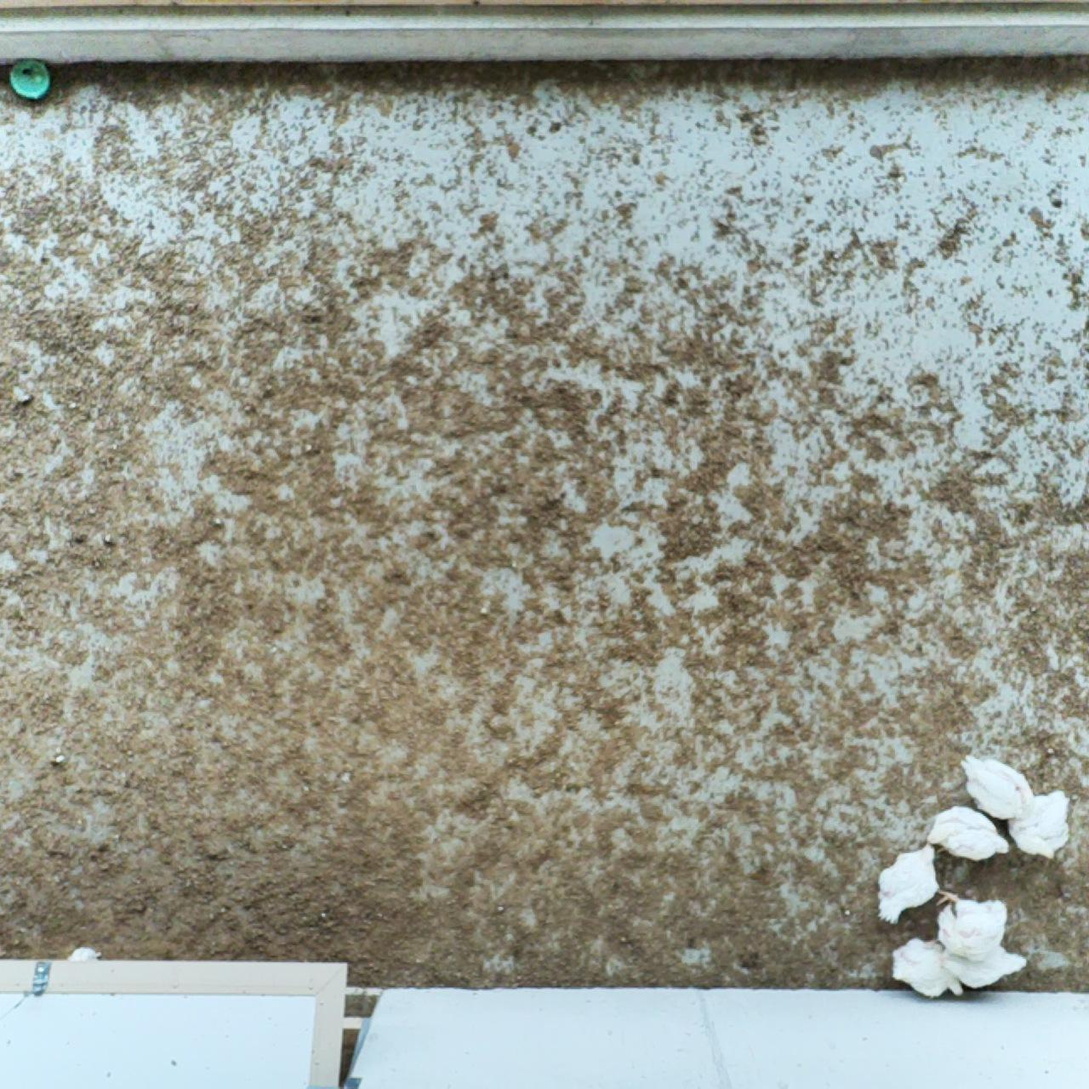chicken: (932, 885, 1014, 966), (872, 840, 946, 928), (921, 797, 1012, 866), (958, 749, 1037, 826), (935, 934, 1029, 991), (1005, 788, 1075, 863), (890, 936, 968, 1002)
